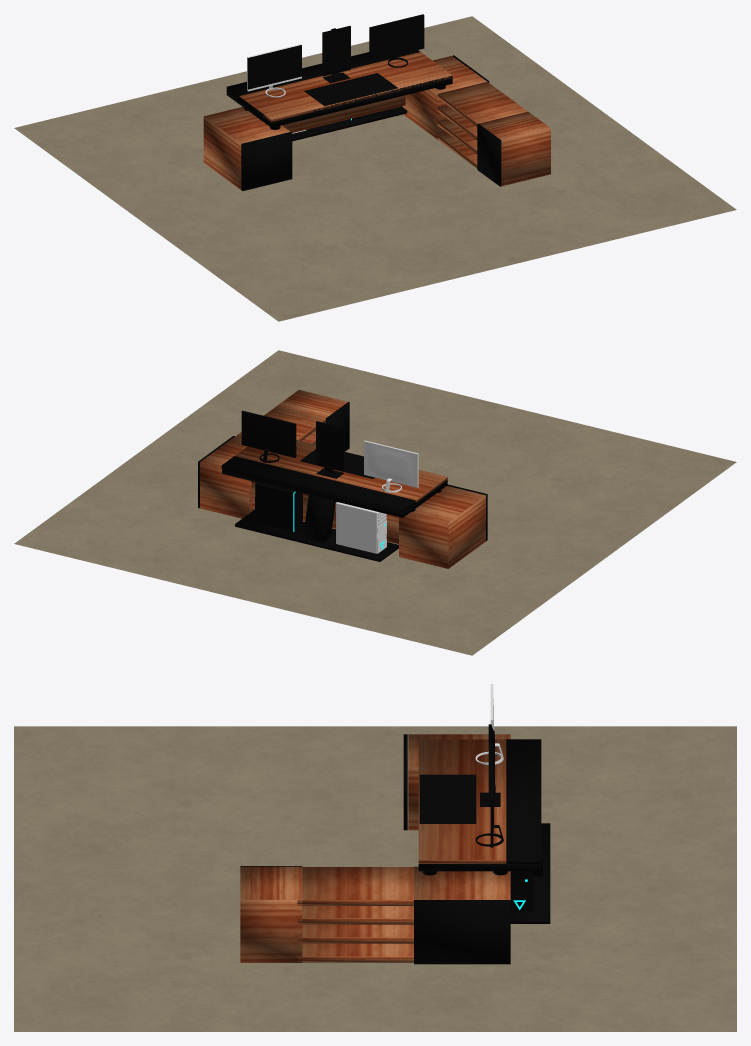
The model's file is editing_table_design.glb.
3 renders of one model, top to bottom at view 1: azimuth 30°, elevation 25°; view 2: azimuth 150°, elevation 25°; view 3: azimuth 270°, elevation 25°, orthographic. The views are drawn at different scales.
Parts seen in each view (by area): view 1: Carpet, Main_Table, Screen_C, Screen_A, Mouse_mat, Screen_B; view 2: Carpet, Main_Table, Main_workstation, Screen_C, Screen_A, Secondary_workstation, Screen_B, Mouse_mat; view 3: Carpet, Main_Table, Mouse_mat, Secondary_workstation, Screen_B.
Boxes of the visible parts, <box> form: Carpet: <box>14,16,736,321</box>; Main_Table: <box>203,50,550,190</box>; Screen_C: <box>369,14,424,67</box>; Screen_A: <box>247,44,301,97</box>; Mouse_mat: <box>304,73,397,106</box>; Screen_B: <box>322,26,350,83</box>; Carpet: <box>14,350,736,655</box>; Main_Table: <box>198,390,487,568</box>; Main_workstation: <box>336,502,386,553</box>; Screen_C: <box>241,410,296,462</box>; Screen_A: <box>364,440,418,492</box>; Secondary_workstation: <box>255,482,302,531</box>; Screen_B: <box>316,421,344,478</box>; Mouse_mat: <box>300,449,374,478</box>; Carpet: <box>14,726,736,1031</box>; Main_Table: <box>240,734,550,964</box>; Mouse_mat: <box>419,774,476,823</box>; Secondary_workstation: <box>510,871,532,911</box>; Screen_B: <box>480,724,500,806</box>.
Size of the model in its own units: 6.33 by 1.43 by 6.33.
Materials: 8 (2 with a texture image).
